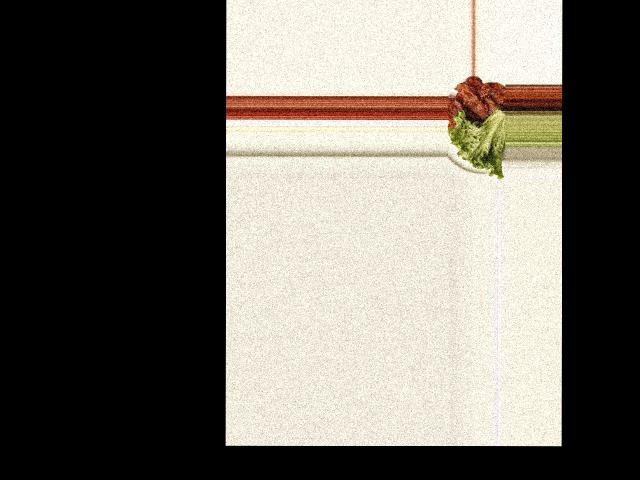lettuce: (449, 110, 506, 175)
